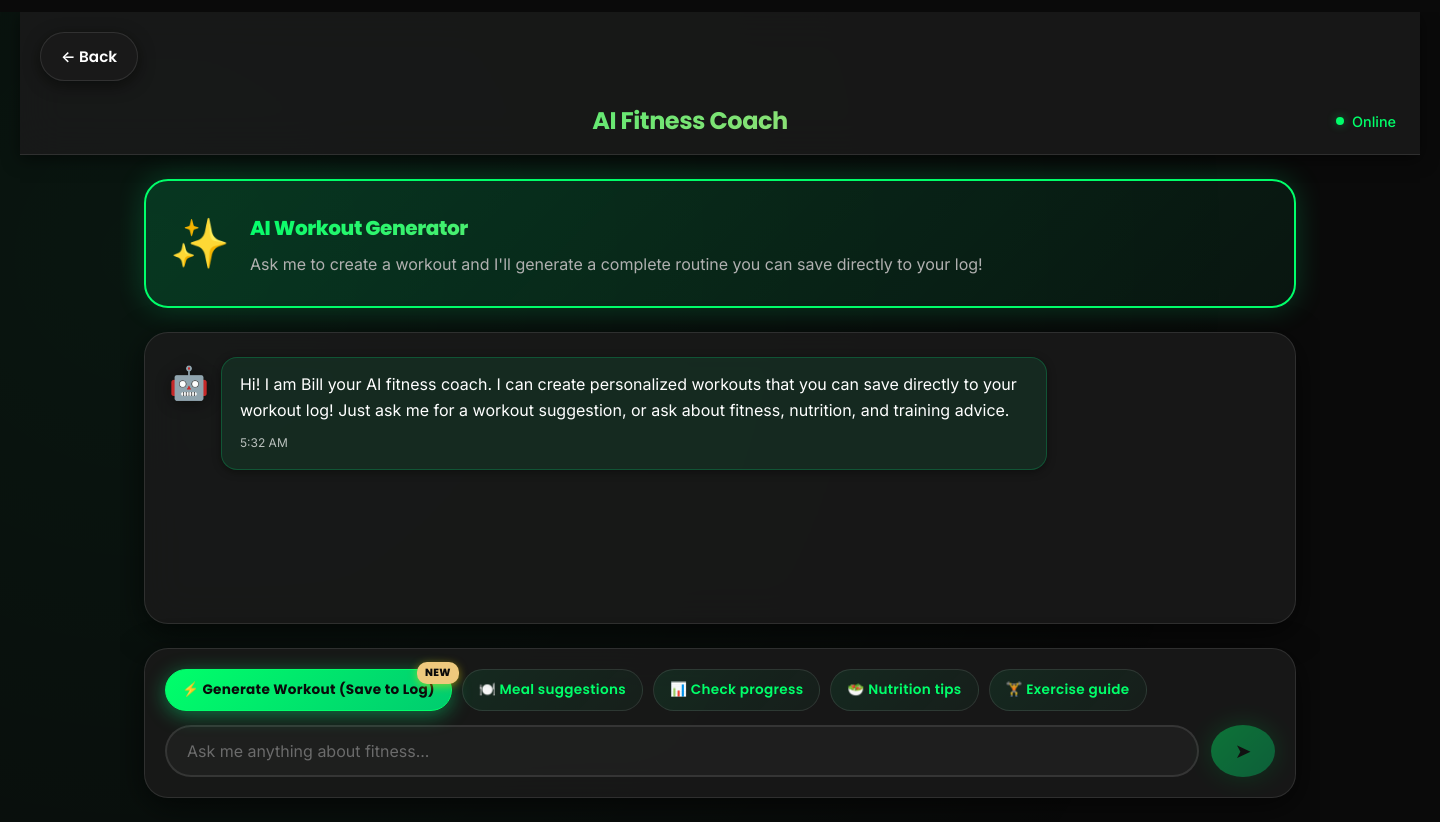
Scenario: AICoachPage › Chat Functionality › should display assistant response in chat
Type "How do I build muscle?" into the field with placeholder "Ask me anything about fitness..." at (682, 751), box [165,725,1199,777]
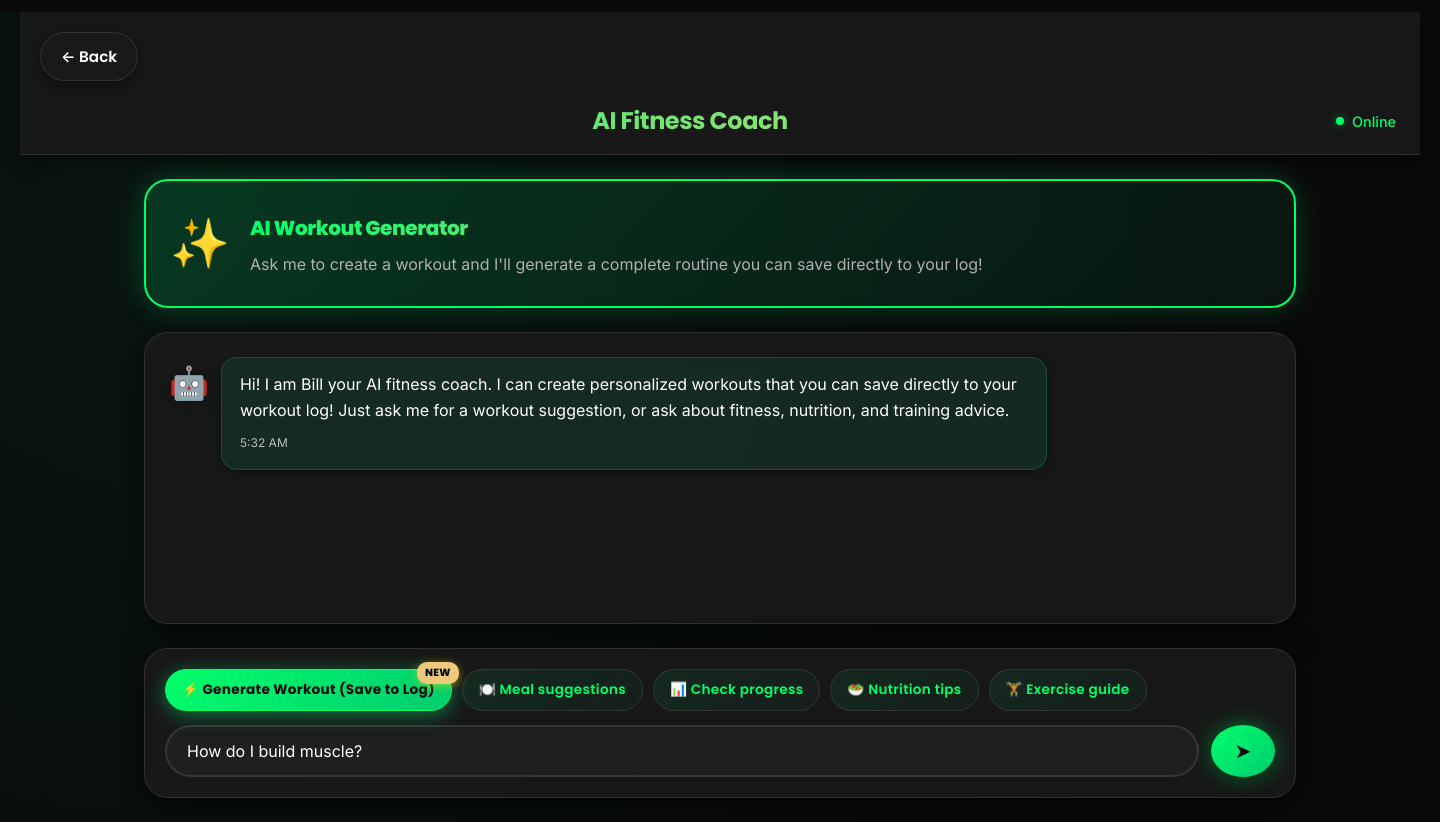
Click the button "➤" at (1243, 751), box [1211,725,1275,777]
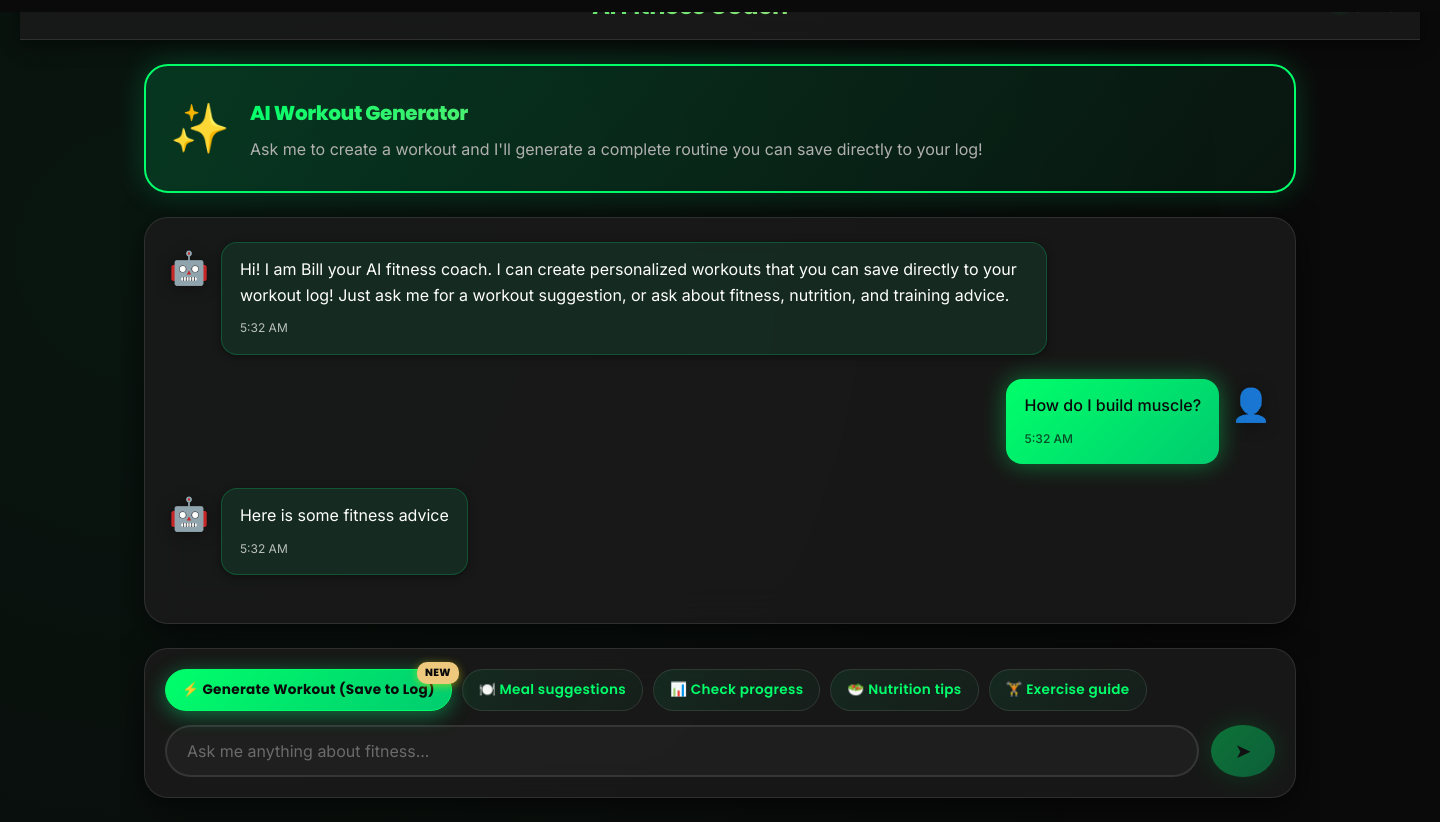
expect the text "Here is some fitness advice" is shown: met, box [240,503,449,529]
